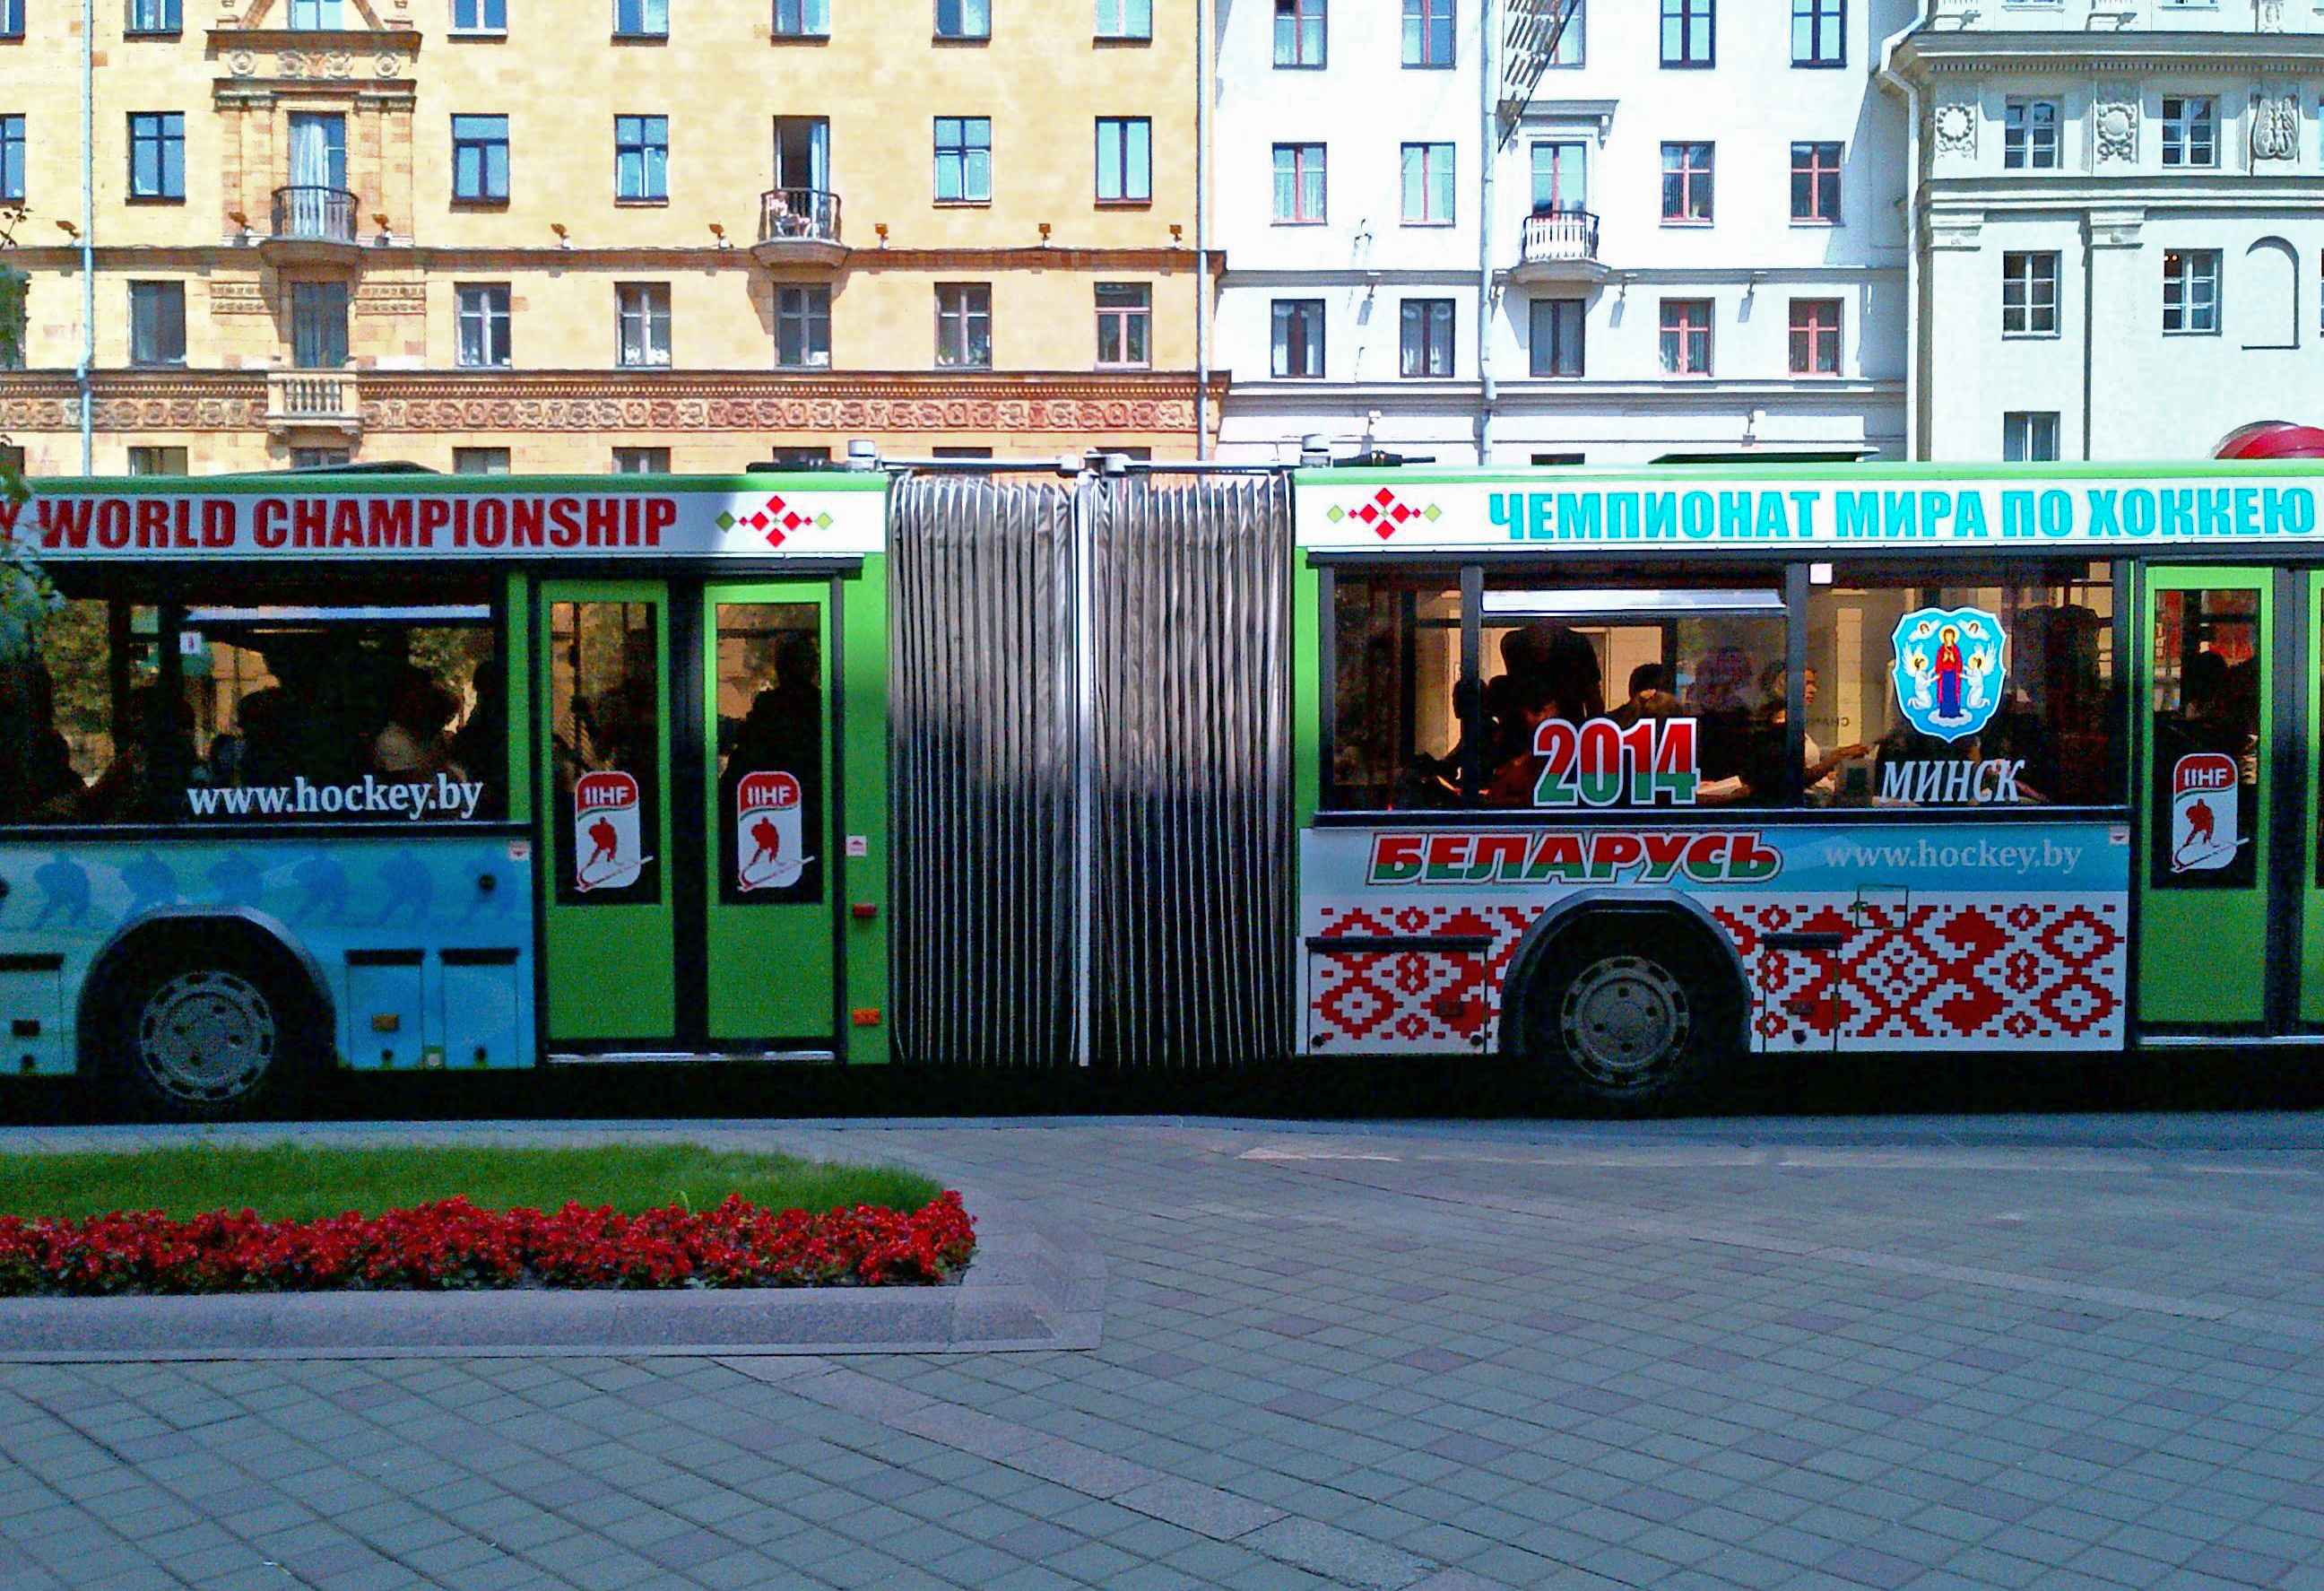bus: (7, 434, 2317, 1114)
